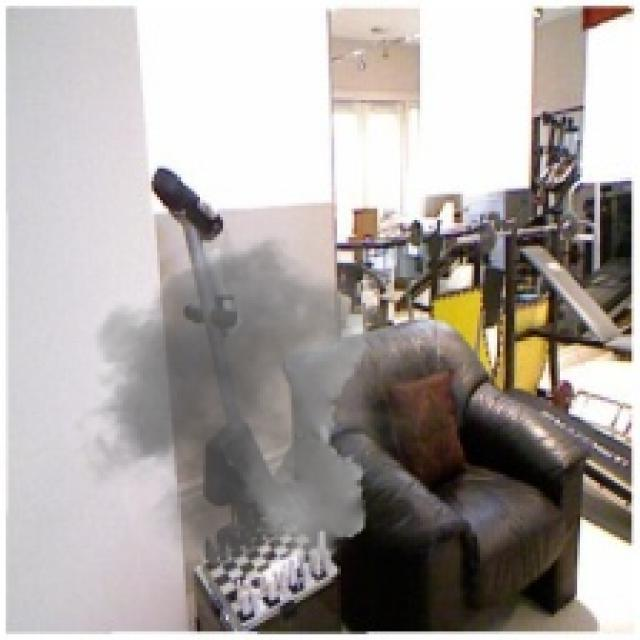Smoke: (46, 208, 448, 598)
